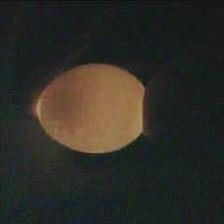infertile: (37, 62, 150, 154)
